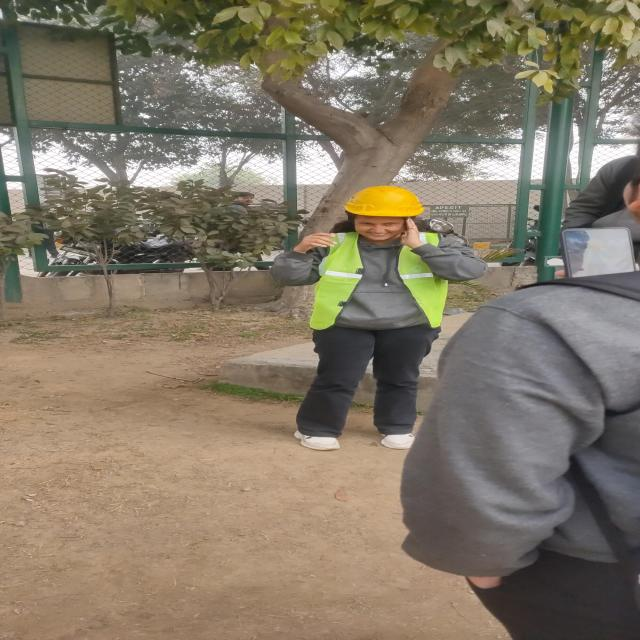safe: (269, 185, 453, 452)
